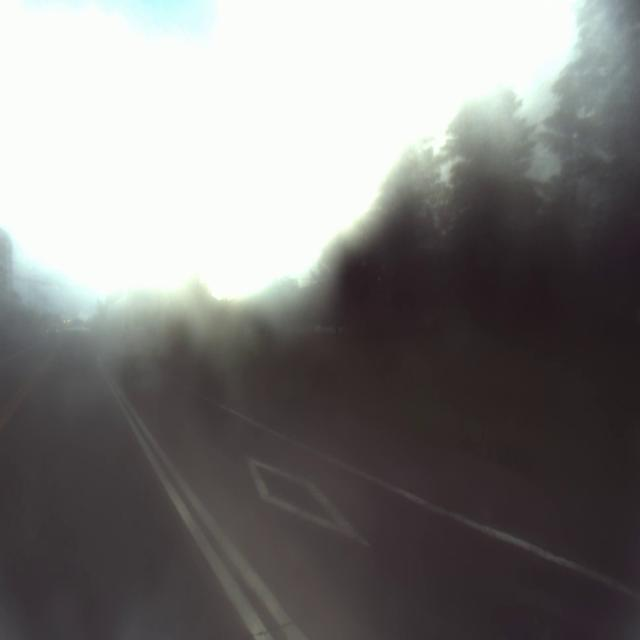car: (51, 312, 94, 381)
